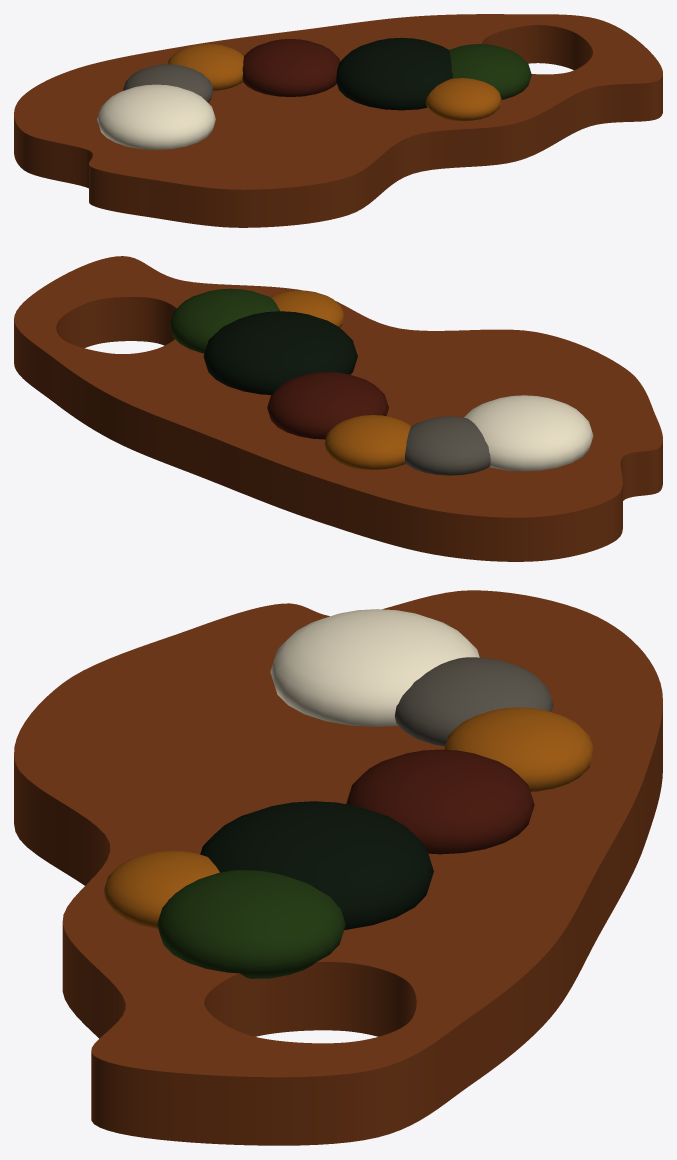
The model's file is 13_palette.fbx.
3 views of the same model, one above another, from view 1: azimuth 30°, elevation 25°; view 2: azimuth 150°, elevation 25°; view 3: azimuth 270°, elevation 25° (orthographic). The views are drawn at different scales.
Parts seen in each view (by area): view 1: Palette, Blob.004, Blob, Blob.003, Blob.005, Blob.006, Blob.002, Blob.001; view 2: Palette, Blob.004, Blob, Blob.003, Blob.001, Blob.002, Blob.005, Blob.006; view 3: Palette, Blob.004, Blob, Blob.005, Blob.003, Blob.001, Blob.002, Blob.006.
Boxes of the visible parts, box(x1,y1,x2,y2) form: Palette: box(14, 14, 662, 227); Blob.004: box(336, 37, 452, 110); Blob: box(97, 84, 215, 149); Blob.003: box(242, 39, 340, 96); Blob.005: box(449, 44, 531, 99); Blob.006: box(425, 78, 501, 121); Blob.002: box(167, 44, 243, 90); Blob.001: box(123, 64, 213, 102); Palette: box(14, 256, 662, 561); Blob.004: box(203, 311, 357, 394); Blob: box(464, 395, 593, 471); Blob.003: box(267, 372, 388, 439); Blob.001: box(405, 416, 490, 475); Blob.002: box(324, 415, 411, 469); Blob.005: box(169, 288, 279, 353); Blob.006: box(270, 290, 344, 327); Palette: box(14, 590, 662, 1145); Blob.004: box(200, 801, 433, 930); Blob: box(270, 609, 479, 726); Blob.005: box(157, 870, 345, 978); Blob.003: box(346, 749, 534, 854); Blob.001: box(394, 657, 553, 746); Blob.002: box(444, 707, 594, 791); Blob.006: box(103, 850, 219, 928).
Bounding box in the file's own units: 0.3661 × 0.0451 × 0.2062.
Materials: 7 (7 with a texture image).
